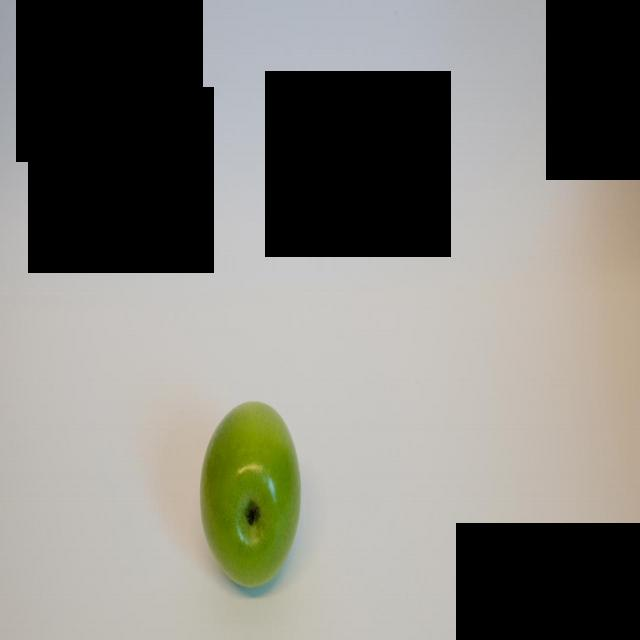apple: (196, 392, 305, 594)
